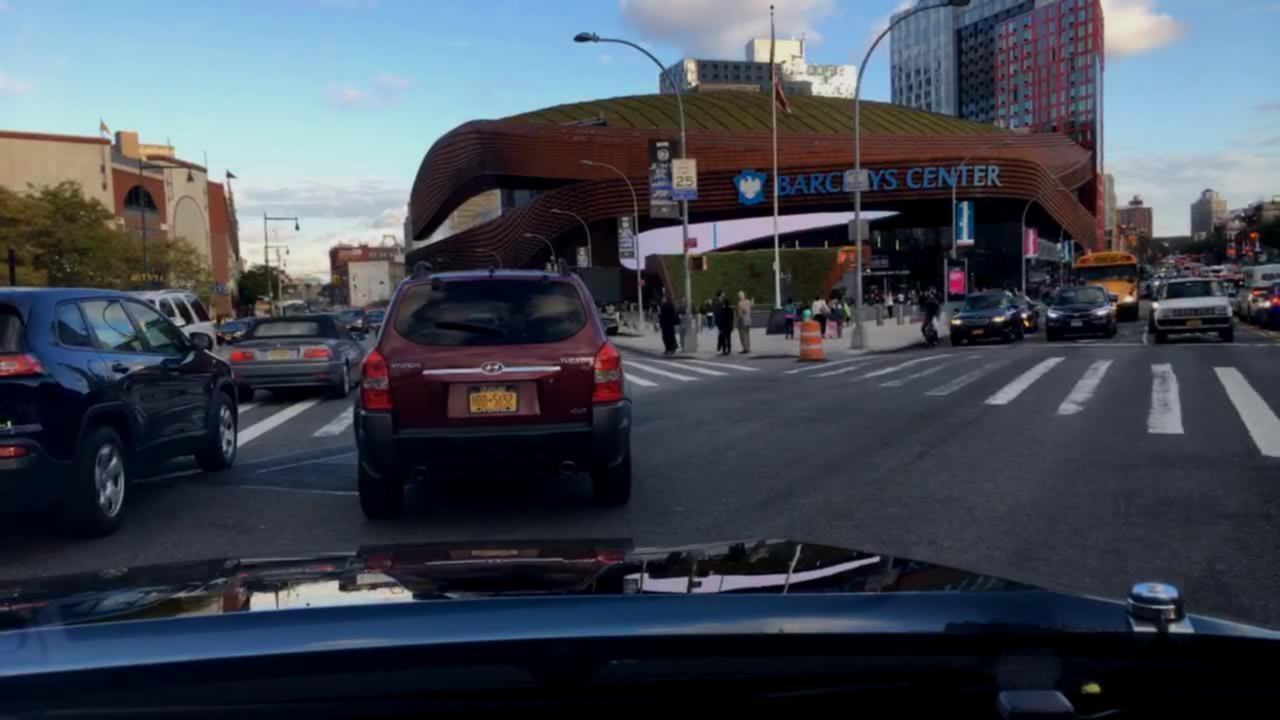Hyundai: (481, 353, 508, 378)
